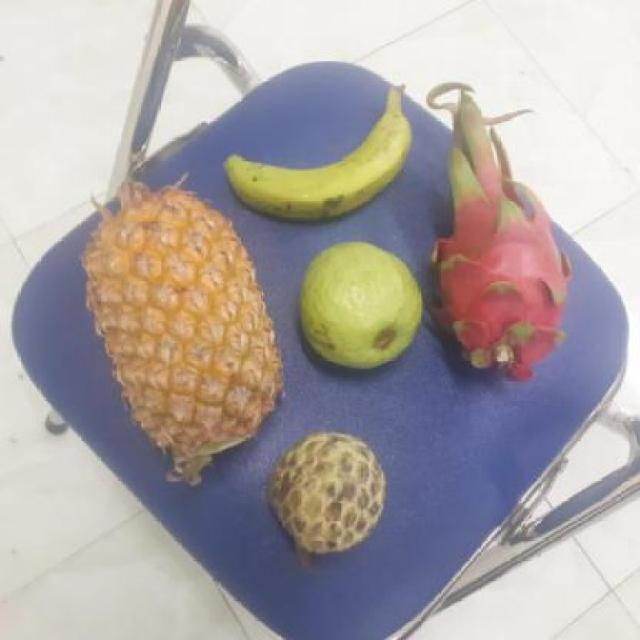banana: (218, 101, 407, 221)
dragon fruit: (423, 154, 568, 368)
guava: (291, 242, 424, 370)
pineapple: (76, 189, 281, 476)
sugar apple: (258, 429, 387, 560)
